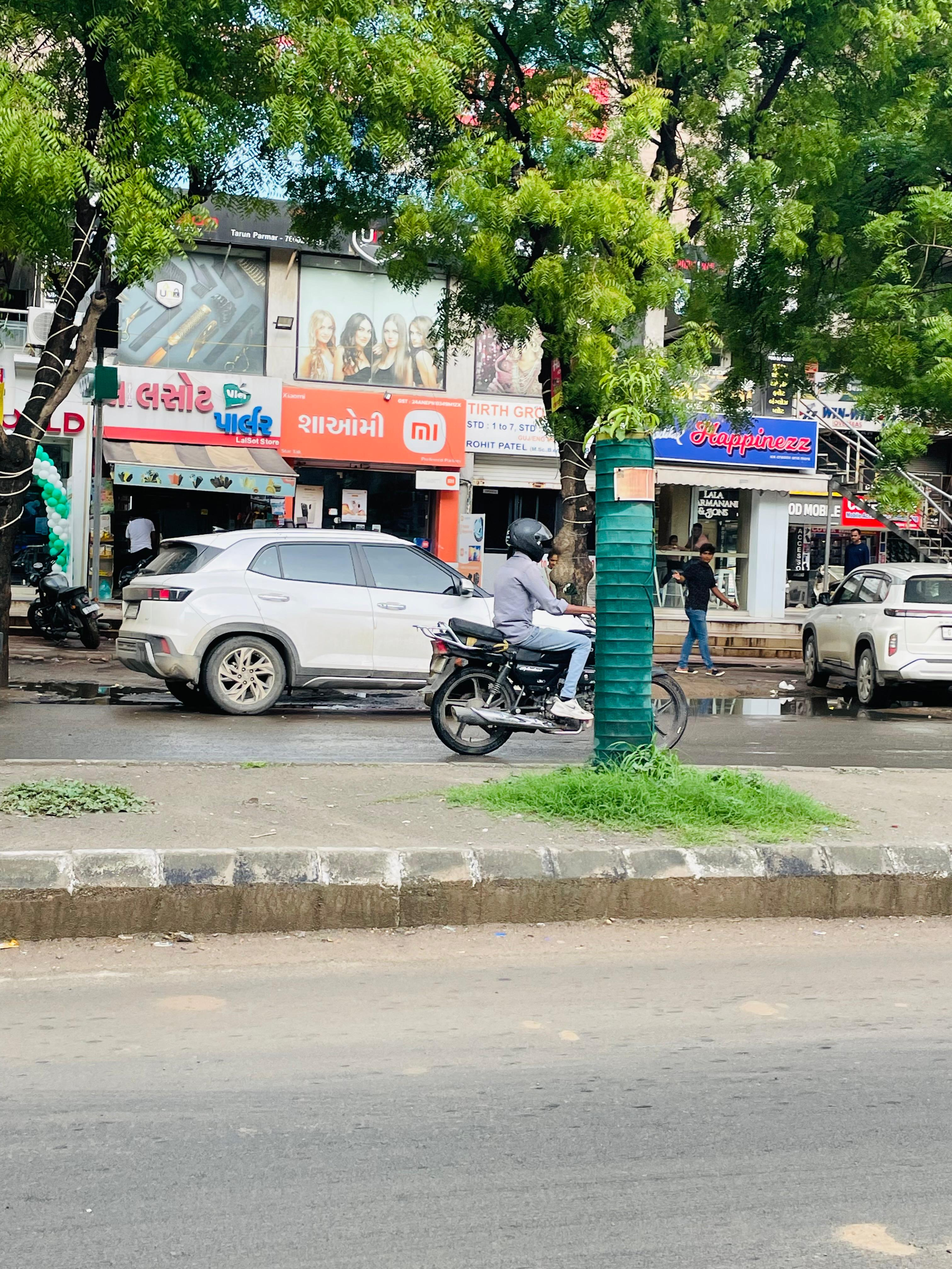BikeWithRider: (417, 512, 692, 759)
Helmet: (501, 515, 558, 563)
